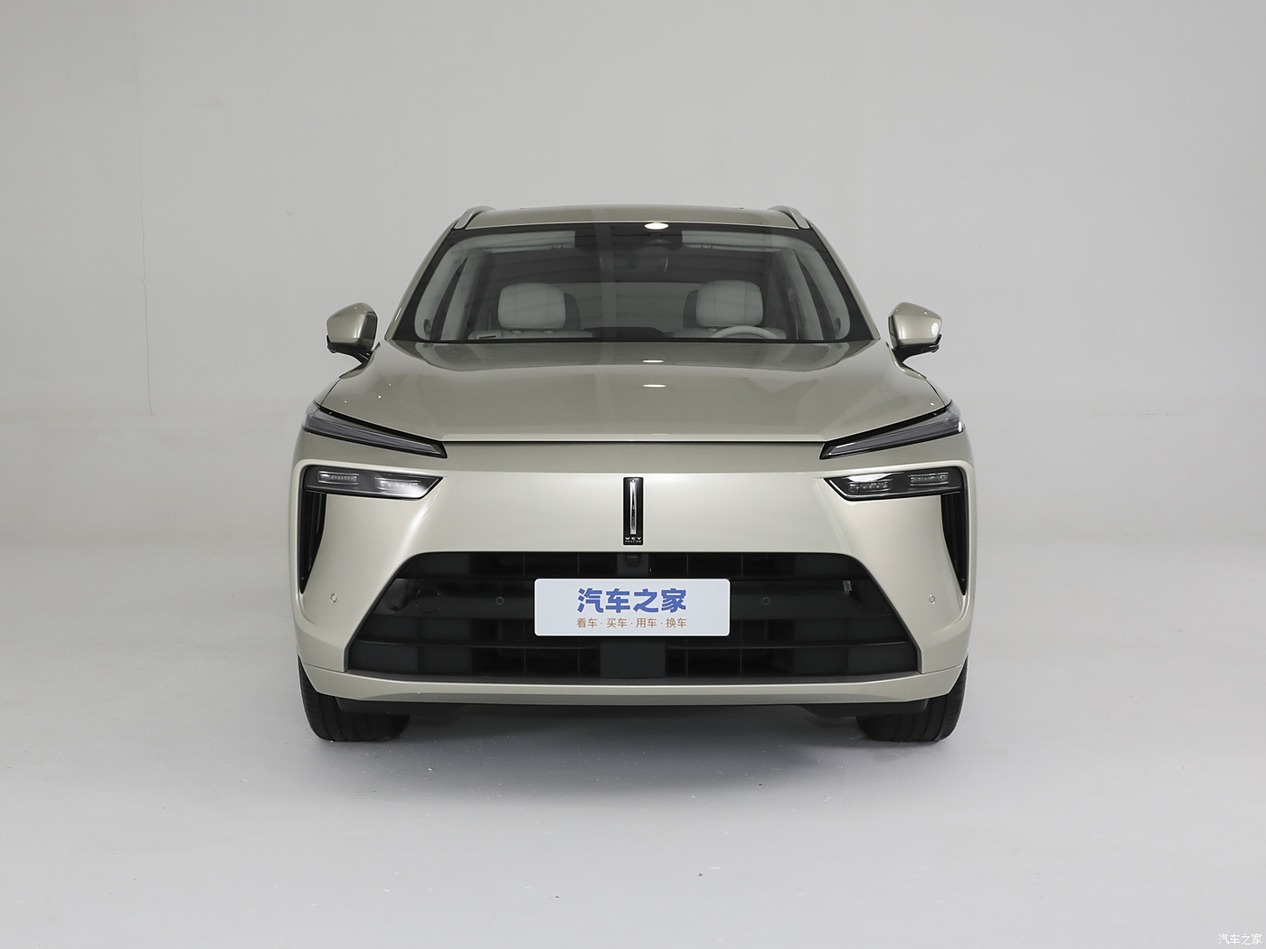WEY: (623, 477, 644, 545)
